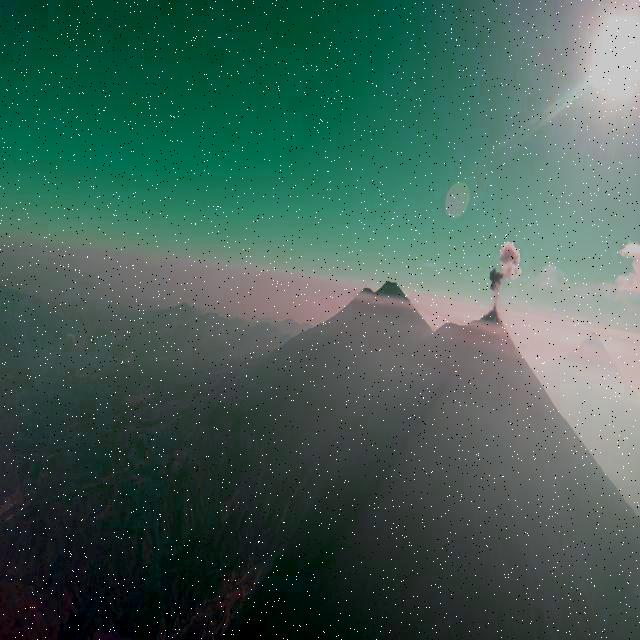Plume: (498, 238, 522, 282), (487, 264, 505, 295)
Summit: (418, 304, 522, 364)
